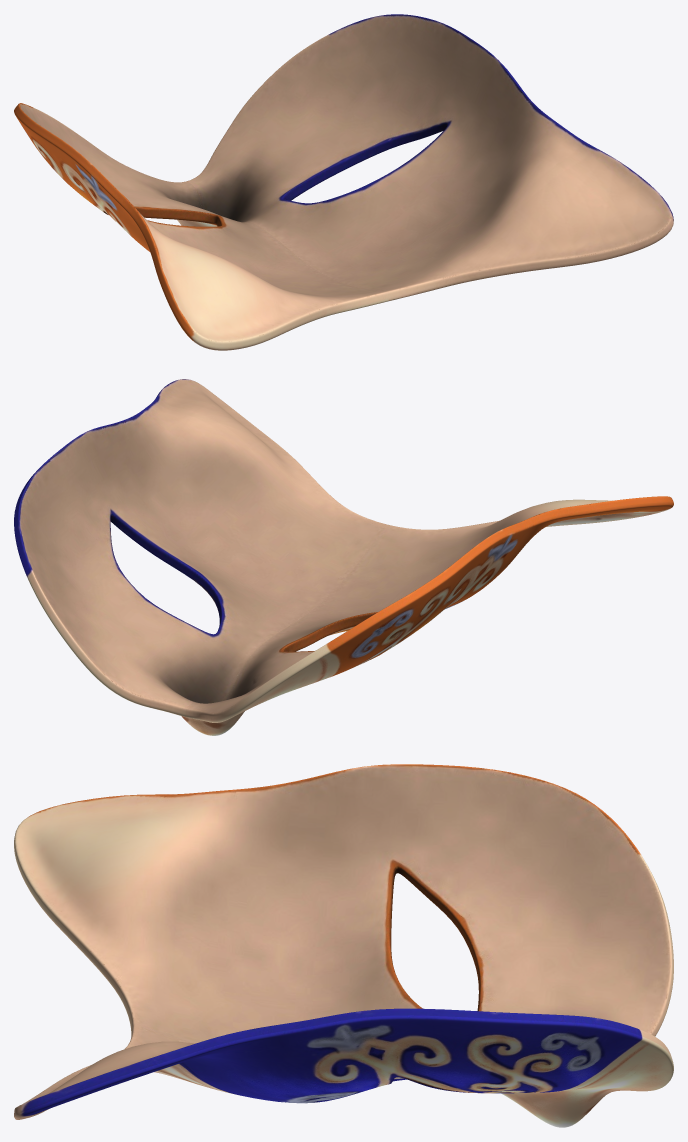
The model's file is 13550_Gatto_Rombi_Mask_v1_l3.obj.
3 renders of one model, top to bottom at view 1: azimuth 30°, elevation 25°; view 2: azimuth 150°, elevation 25°; view 3: azimuth 270°, elevation 25°, orthographic. The views are drawn at different scales.
Parts seen in each view (by area): view 1: 13550_Gatto_Rombi_Mask_v1; view 2: 13550_Gatto_Rombi_Mask_v1; view 3: 13550_Gatto_Rombi_Mask_v1.
Boxes of the visible parts, left/top/right/bottom form: 13550_Gatto_Rombi_Mask_v1: left=14, top=14, right=673, bottom=350; 13550_Gatto_Rombi_Mask_v1: left=14, top=379, right=673, bottom=735; 13550_Gatto_Rombi_Mask_v1: left=14, top=764, right=673, bottom=1127.
Bounding box in the file's own units: 23.21 × 8.9 × 22.33.
Materials: 1 (1 with a texture image).
